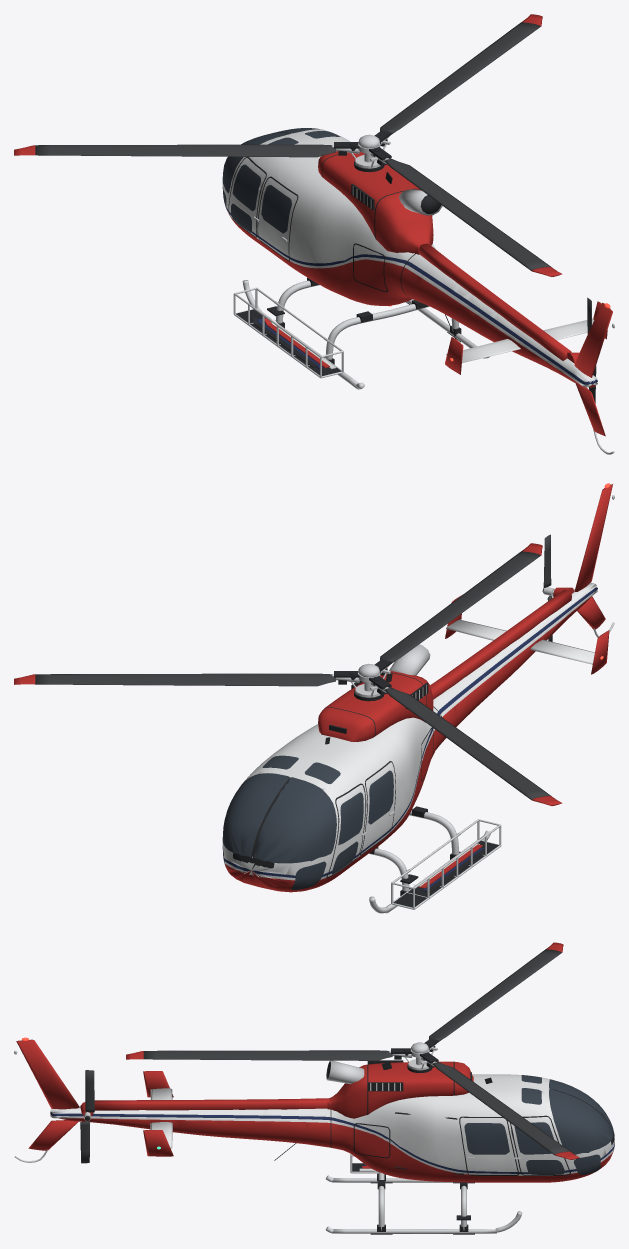
The model's file is heli.glb.
3 views of the same model, one above another, from view 1: azimuth 30°, elevation 25°; view 2: azimuth 150°, elevation 25°; view 3: azimuth 270°, elevation 25° (orthographic). The views are drawn at different scales.
Visible parts, largest first — view 1: heli_body, heli_rotor; view 2: heli_body, heli_rotor; view 3: heli_body, heli_rotor, heli_tail_rotor.
Part boxes in pixels (x1=…): heli_body: x1=222, y1=128, x2=614, y2=454; heli_rotor: x1=14, y1=14, x2=562, y2=276; heli_body: x1=222, y1=483, x2=614, y2=913; heli_rotor: x1=14, y1=543, x2=562, y2=805; heli_body: x1=14, y1=1037, x2=614, y2=1234; heli_rotor: x1=126, y1=942, x2=579, y2=1159; heli_tail_rotor: x1=80, y1=1070, x2=94, y2=1163.
Size of the model in its own units: 9.37 by 3.42 by 10.94.
